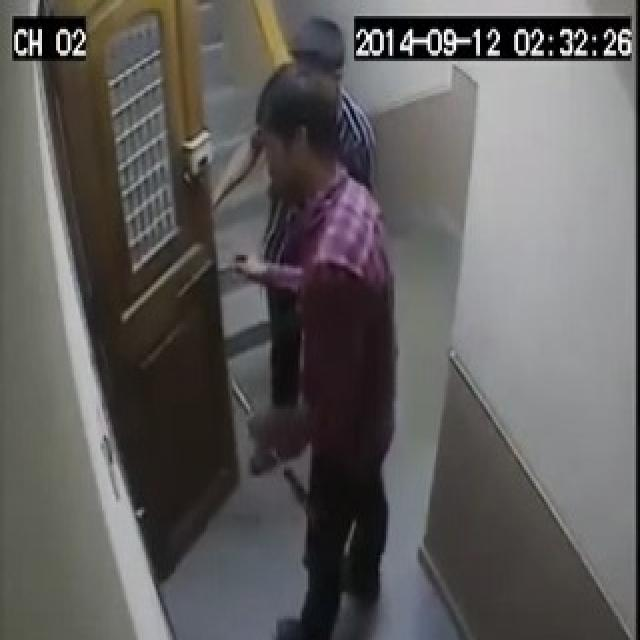burglary: (130, 62, 423, 478)
